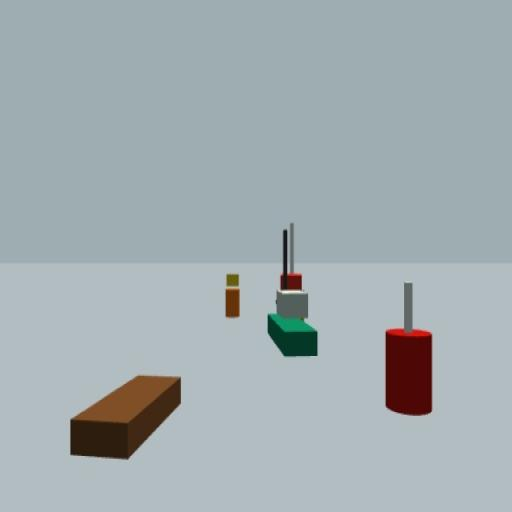buoy: (225, 270, 240, 322)
debris_container: (70, 373, 183, 462)
fishing_boat: (266, 229, 318, 358)
floating_obstacle: (386, 282, 434, 417)
